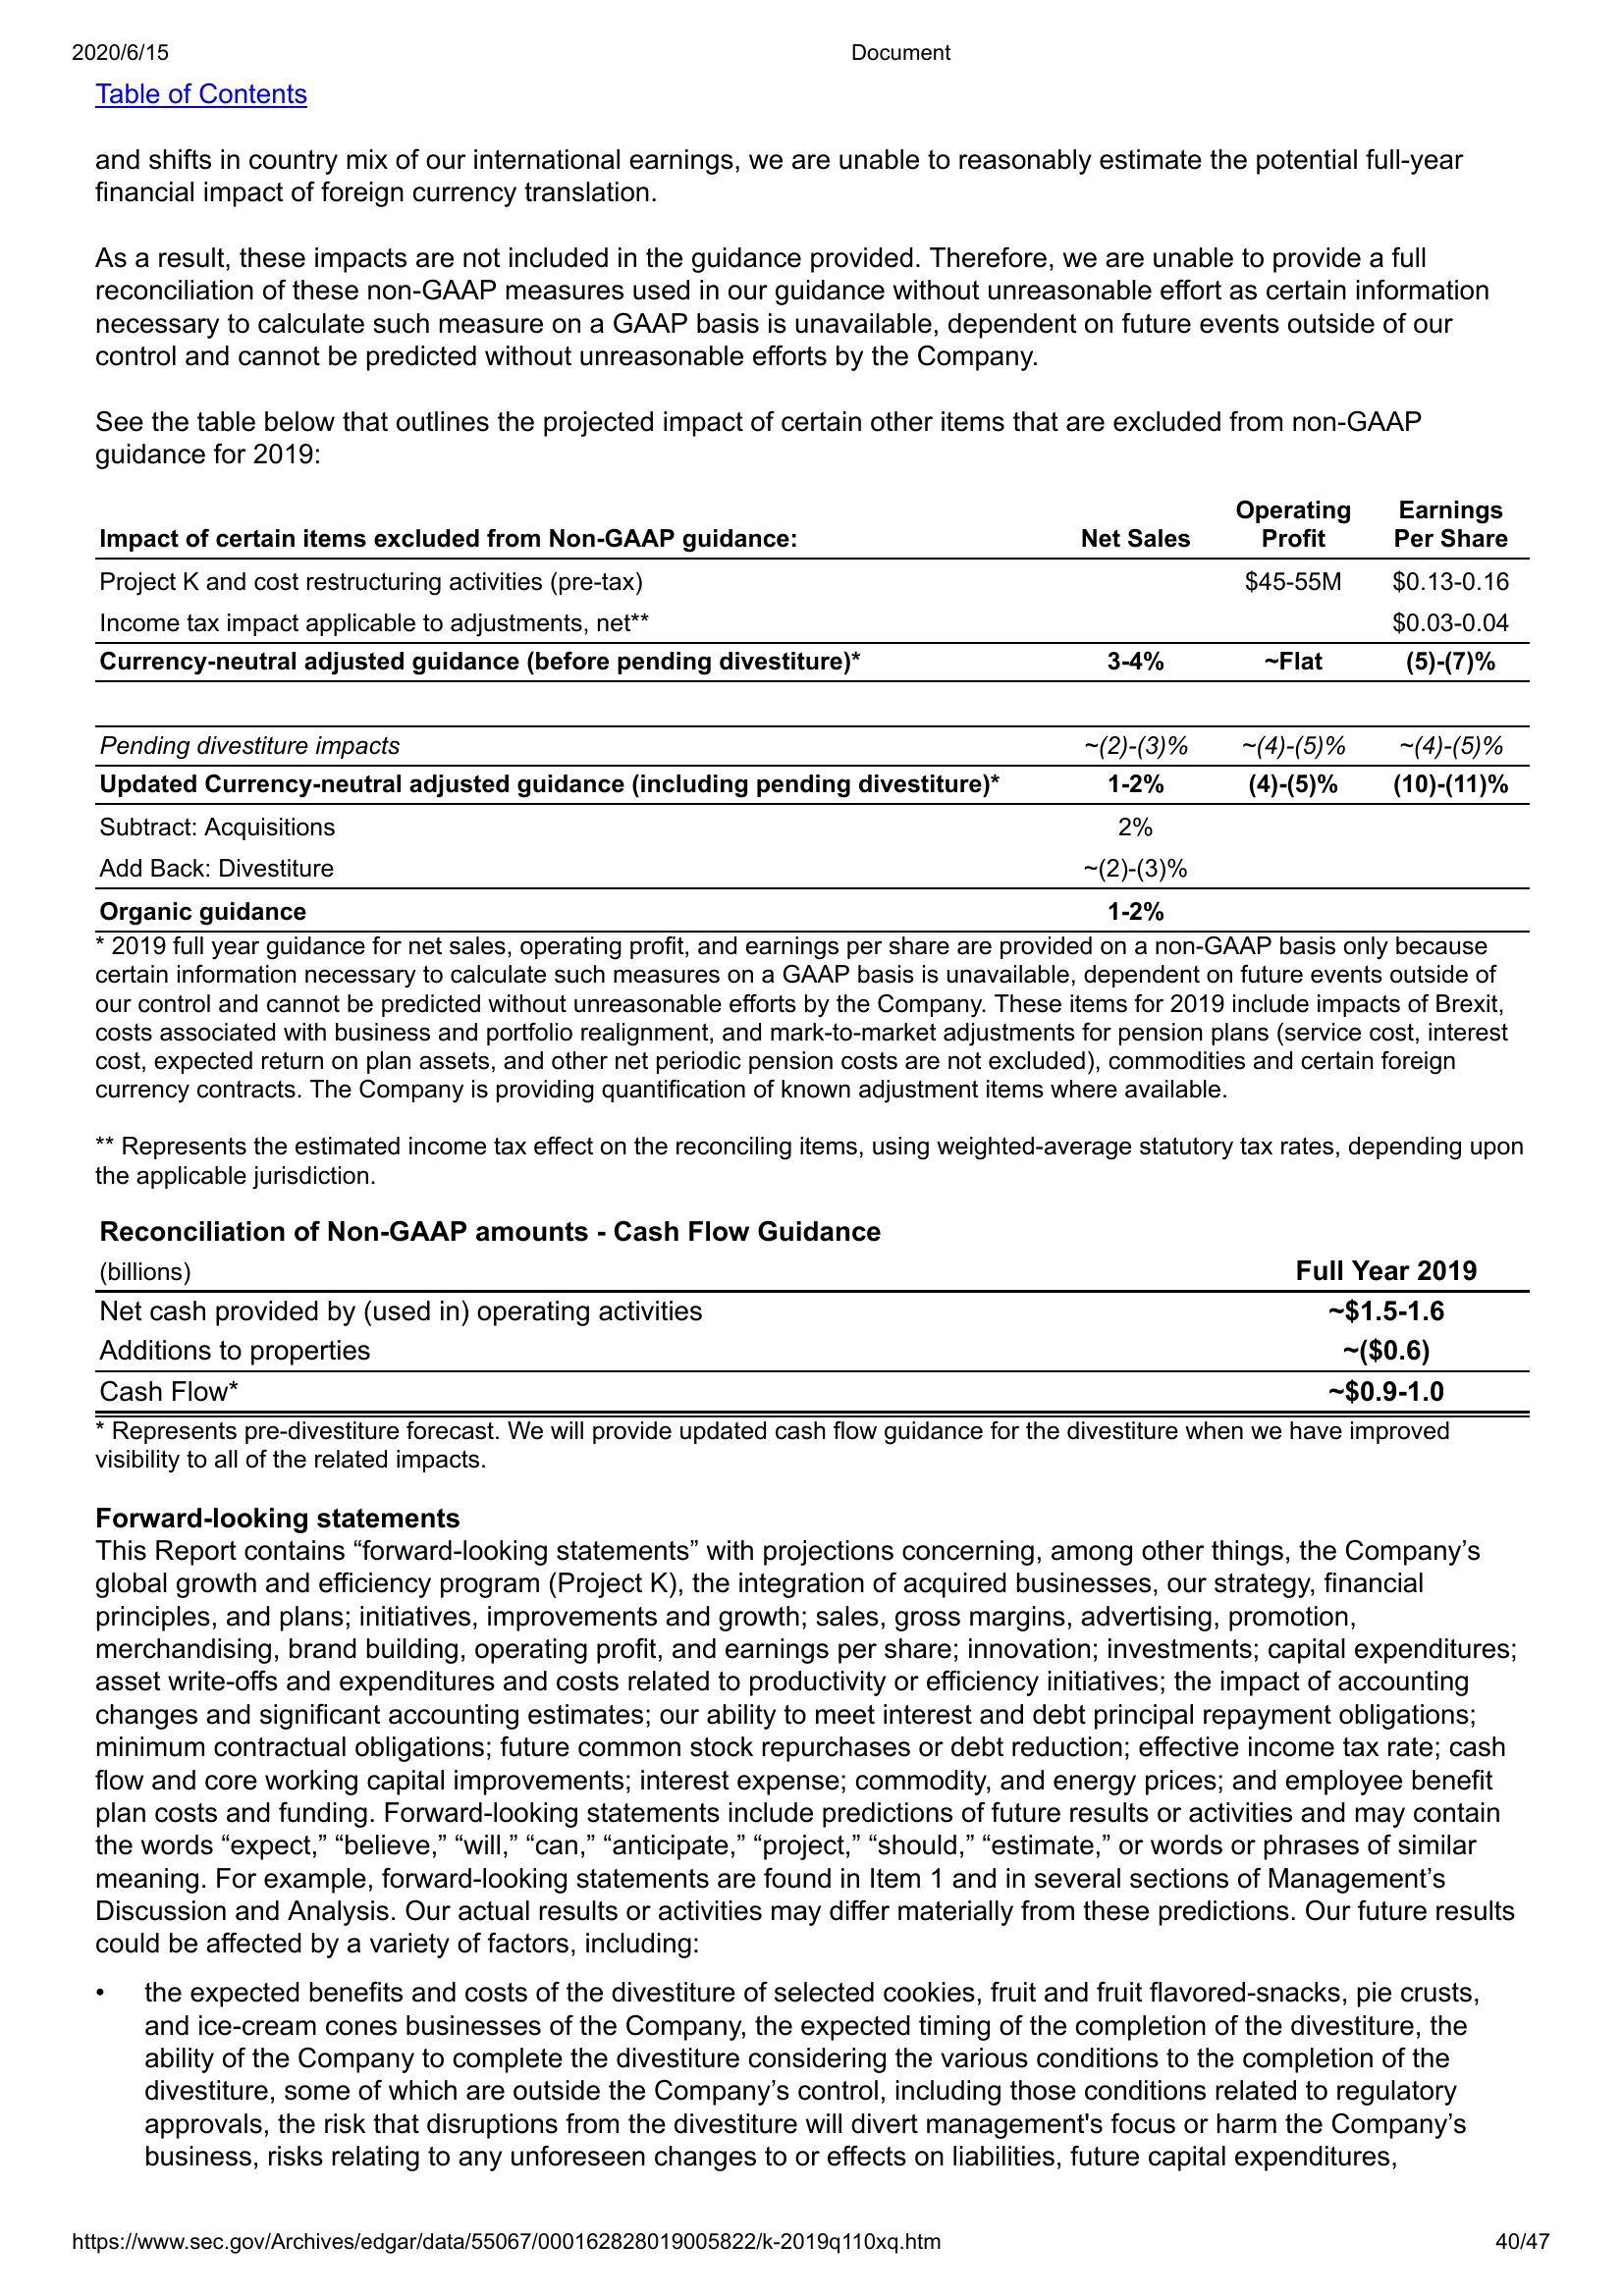table: (88, 497, 1535, 943), (95, 1253, 1542, 1420)
